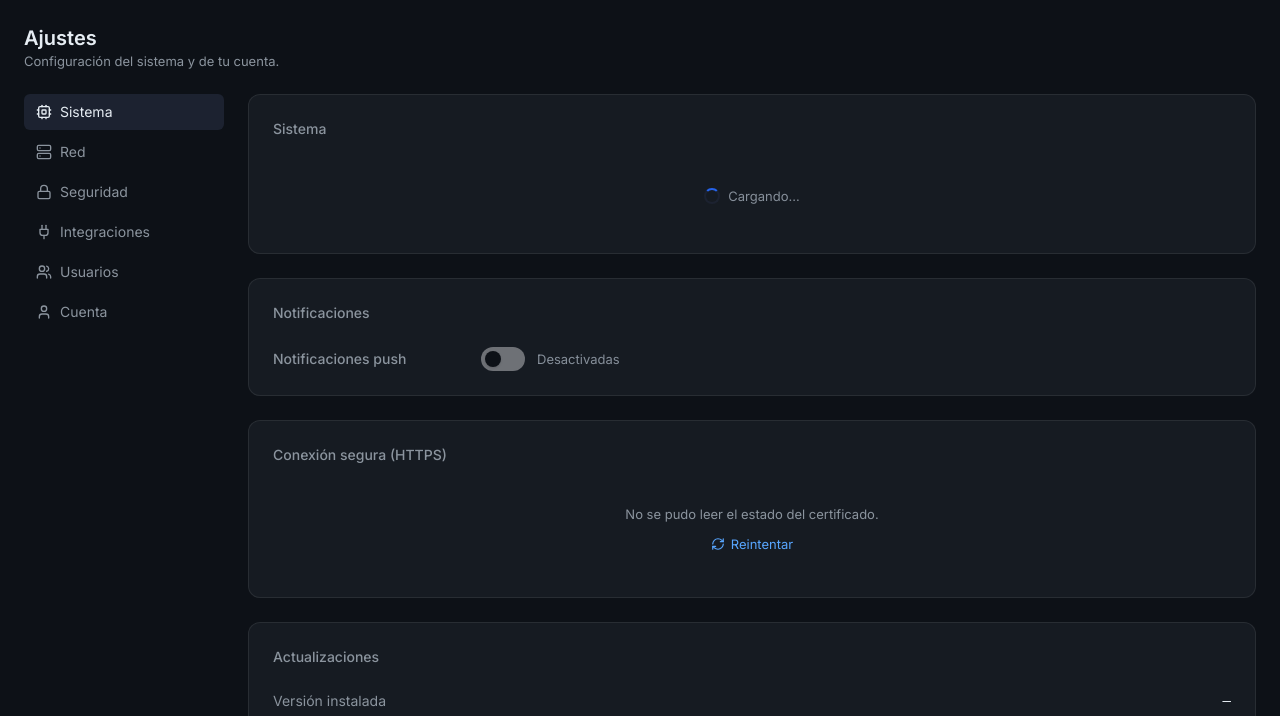
Test: SettingsPage › con /system/settings caído o pendiente › con la petición pendiente los controles dependientes no se ofrecen
Click the button "Seguridad".
click(124, 192)  # box [24,174,224,210]
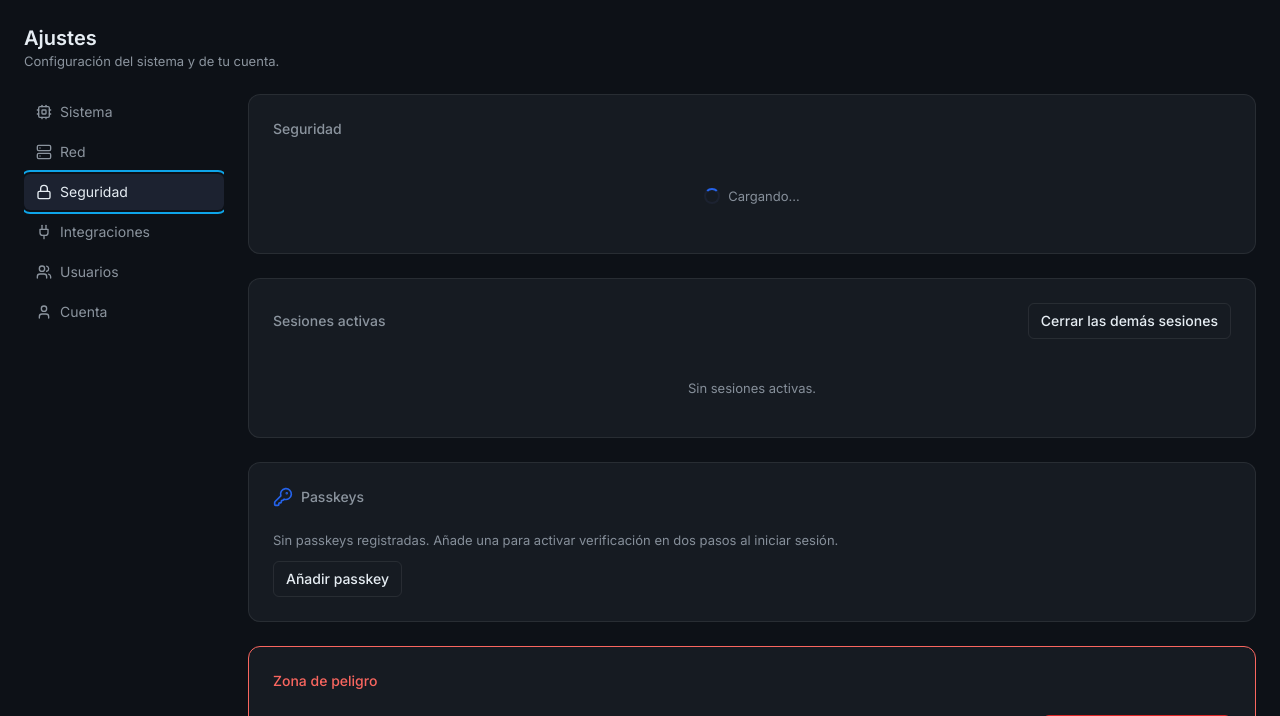
Now the heading "Sesiones activas" is shown, box [273,311,386,331]
